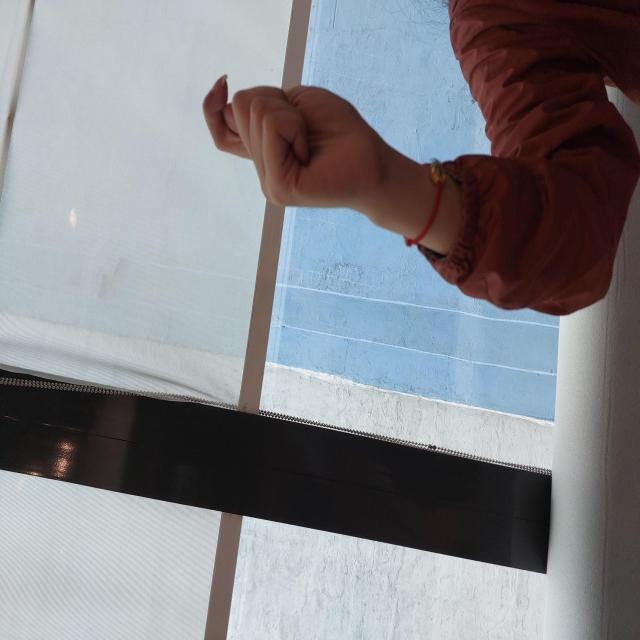T: (424, 200, 568, 386)
